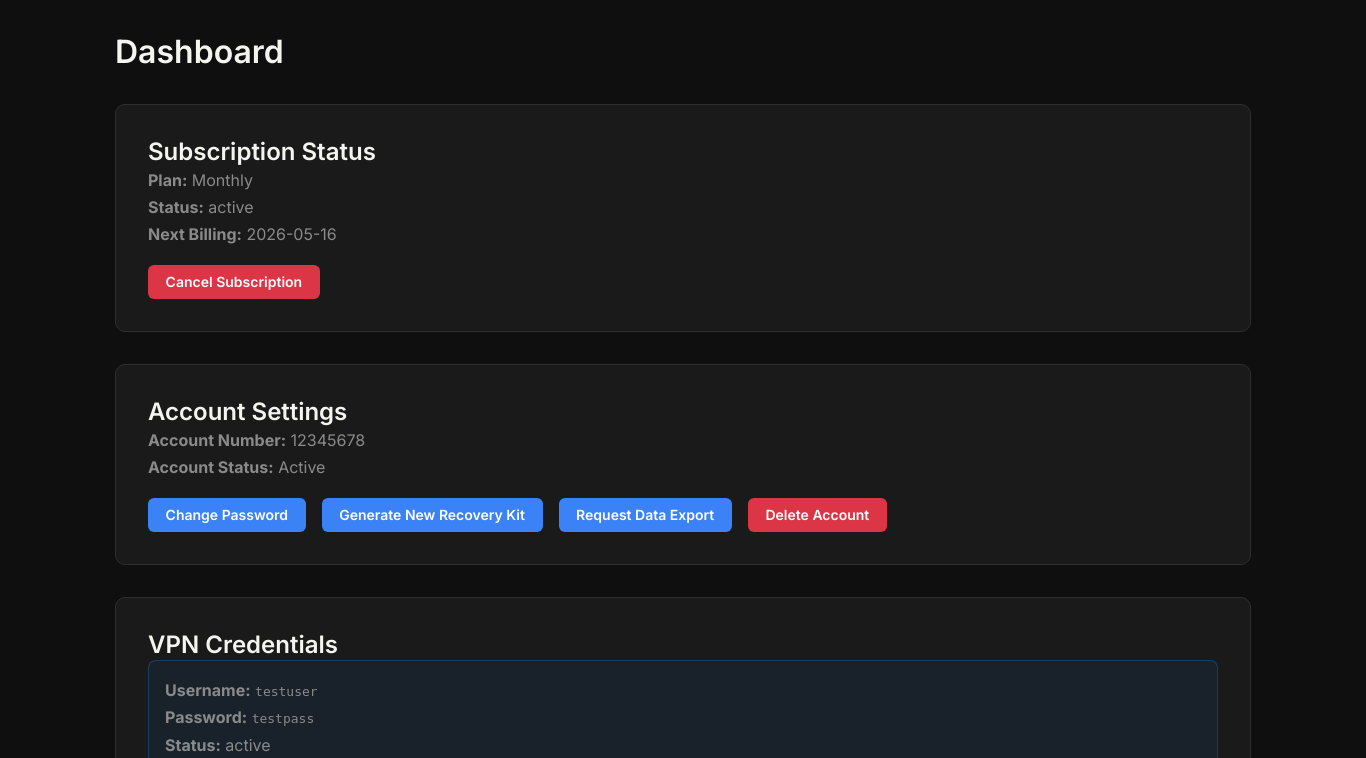
Scenario: Dashboard Page › shows Change Password form when button clicked
Check: the heading "Account Settings" is shown, box x1=148 y1=397 x2=347 y2=426
What coordinates should you click on to do the following:
click the button "Change Password"
I would click on:
 (227, 515)
Its box is x1=148 y1=498 x2=306 y2=532.
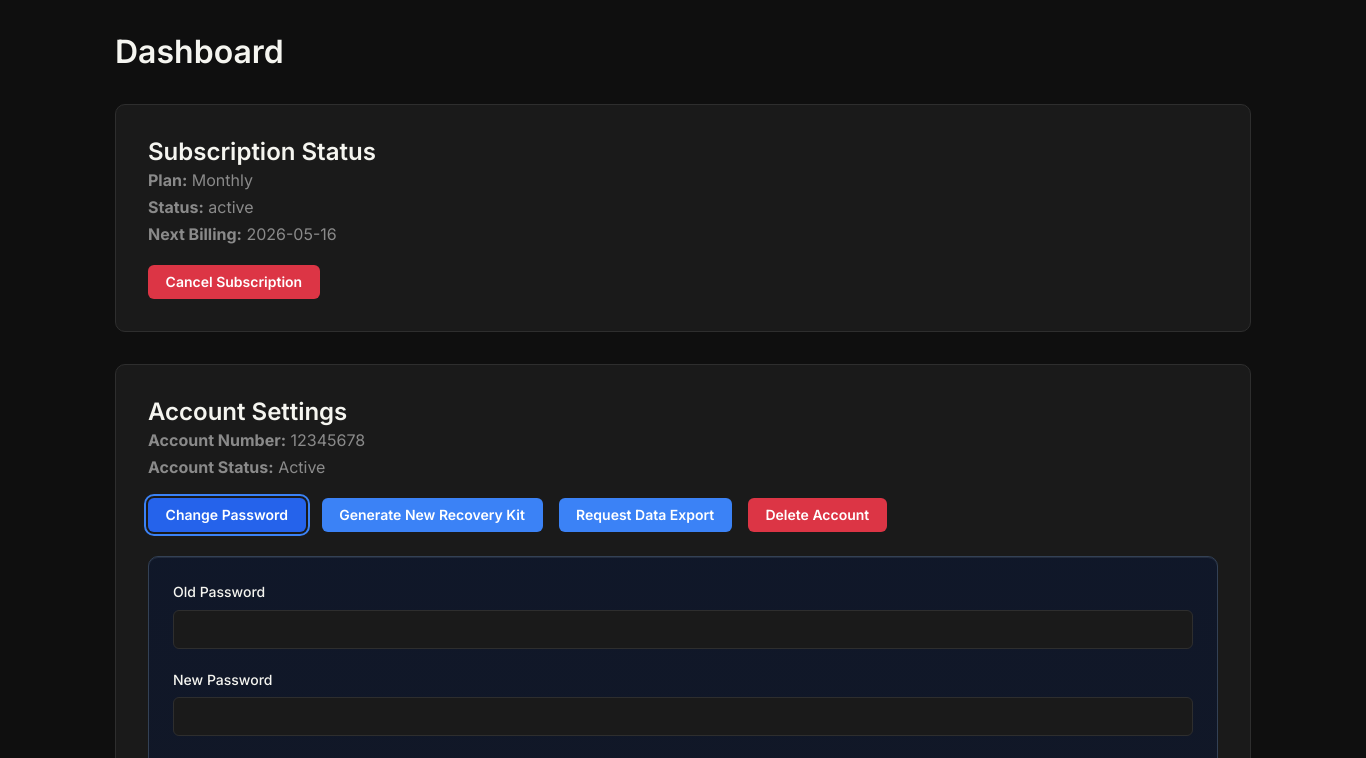
Check: the text "Old Password" is shown, box x1=173 y1=583 x2=265 y2=600
Check: the text "New Password" is shown, box x1=173 y1=670 x2=272 y2=688
